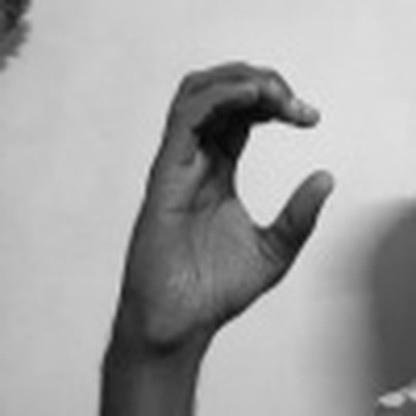c: (126, 45, 343, 331)
